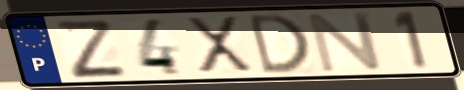1: (391, 9, 431, 71)
4: (131, 17, 188, 78)
D: (245, 11, 312, 77)
N: (305, 10, 387, 74)
X: (183, 14, 257, 76)
Z: (50, 19, 131, 80)
